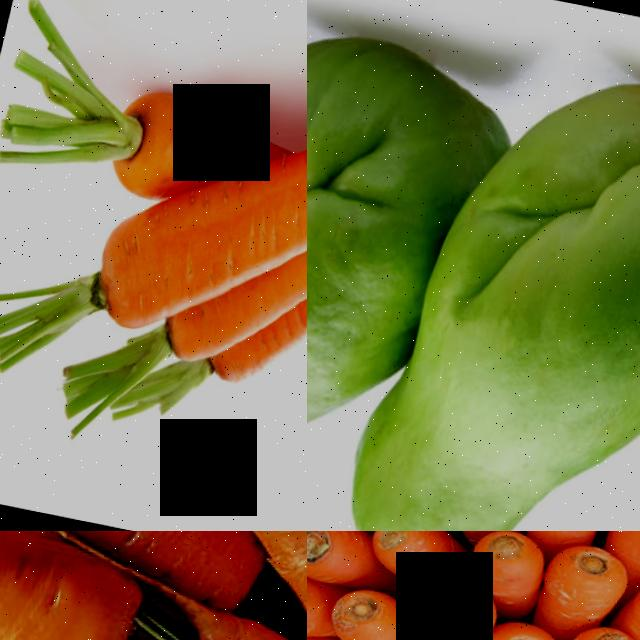carrot: (0, 167, 228, 379), (0, 22, 219, 206), (217, 0, 307, 213), (0, 531, 136, 640), (94, 288, 253, 370), (319, 555, 418, 640), (249, 531, 307, 640), (542, 535, 630, 604), (464, 531, 556, 589), (412, 575, 493, 640), (370, 531, 460, 570), (307, 531, 368, 585), (542, 611, 640, 640), (307, 565, 341, 640), (488, 612, 556, 640)
chayote: (397, 0, 640, 531), (307, 0, 479, 447)
